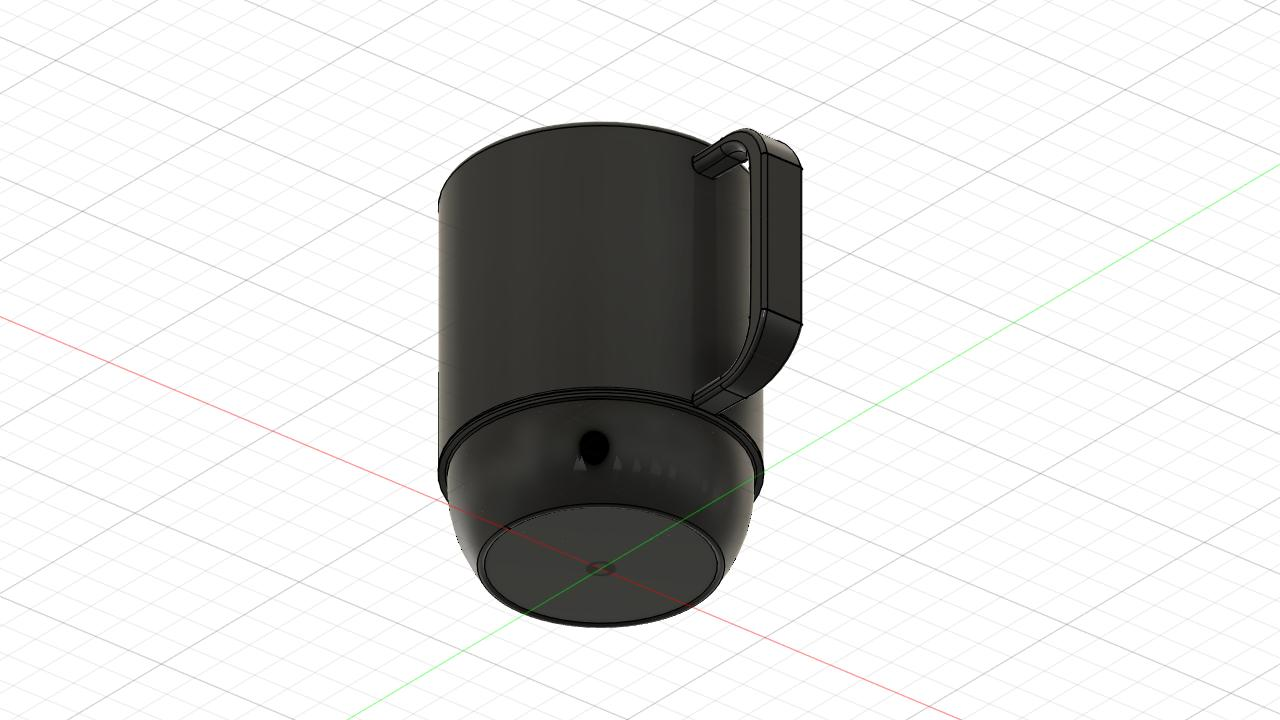mug-real100-3d100: (439, 124, 801, 627)
